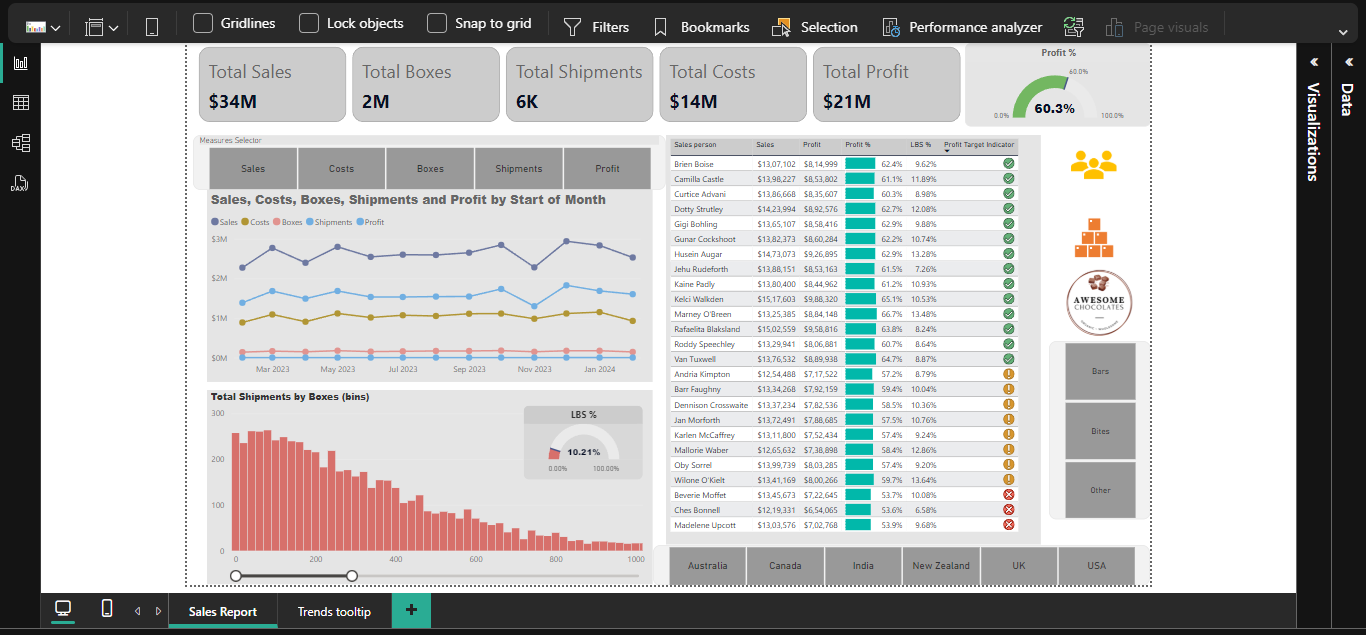

What the dashboard file says about the page in this screenshot:
{"tool":"powerbi","page":{"name":"Sales Report","canvas":[1280,720],"ordinal":0},"visuals":[{"type":"cardVisual","fields":{"Data":["_Measures.Total Sales","_Measures.Total Boxes","_Measures.Total Shipments","_Measures.Total Costs","_Measures.Total Profit"]},"box":[10.5,0,1023.2,110.5],"z":0},{"type":"gauge","fields":{"Y":["_Measures.Profit Percentage"]},"box":[1033.3,0,247.2,111.1],"z":1000},{"type":"lineChart","fields":{"Y":["_Measures.Total Boxes"],"Category":["calendar.Start of Month"]},"box":[26.9,195.7,591.5,255.4],"z":2000},{"type":"slicer","fields":{"Values":["Parameter.Parameter"]},"box":[7.5,122.5,628.9,73.2],"z":3000},{"type":"columnChart","fields":{"Category":["shipments.Boxes (bins)"],"Y":["_Measures.Total Shipments"]},"box":[26.9,461.6,591.5,258.4],"z":3002},{"type":"gauge","fields":{"Y":["_Measures.LBS %"]},"box":[446.6,481,159.8,100.1],"z":3003},{"type":"tableEx","title":"People Details","fields":{"Values":["people.Sales person","_Measures.Total Sales","_Measures.Total Profit","_Measures.Profit Percentage","_Measures.LBS %","_Measures.Profit Target Indicator"]},"box":[636.5,122.2,498.4,544.4],"z":3004},{"type":"image","title":"Products","box":[1144.4,220.6,119,76.2],"z":3006},{"type":"image","title":"People","box":[1144.4,122.2,119,79.4],"z":3007},{"type":"slicer","fields":{"Values":["locations.Geo"]},"box":[619,666.7,660.3,54],"z":3009},{"type":"slicer","fields":{"Values":["products.Category"]},"box":[1144.4,395.2,134.9,236.5],"z":3010},{"type":"image","box":[1144.4,296.8,134.9,98.4],"z":3011}]}

Visuals, with their boxes on the page's 1280x720 design canvas (x1, y1, x2, y2). These are canvas units, not pixel positions in the 1366x635 screenshot, which may show the page scaled, cropped or inside an application window:
cardVisual - _Measures.Total Sales x _Measures.Total Boxes: <region>10, 0, 1034, 110</region>
gauge - _Measures.Profit Percentage: <region>1033, 0, 1280, 111</region>
lineChart - _Measures.Total Boxes x calendar.Start of Month: <region>27, 196, 618, 451</region>
slicer - Parameter.Parameter: <region>8, 122, 636, 196</region>
columnChart - shipments.Boxes (bins) x _Measures.Total Shipments: <region>27, 462, 618, 720</region>
gauge - _Measures.LBS %: <region>447, 481, 606, 581</region>
"People Details" tableEx: <region>636, 122, 1135, 667</region>
"Products" image: <region>1144, 221, 1263, 297</region>
"People" image: <region>1144, 122, 1263, 202</region>
slicer - locations.Geo: <region>619, 667, 1279, 721</region>
slicer - products.Category: <region>1144, 395, 1279, 632</region>
image: <region>1144, 297, 1279, 395</region>
